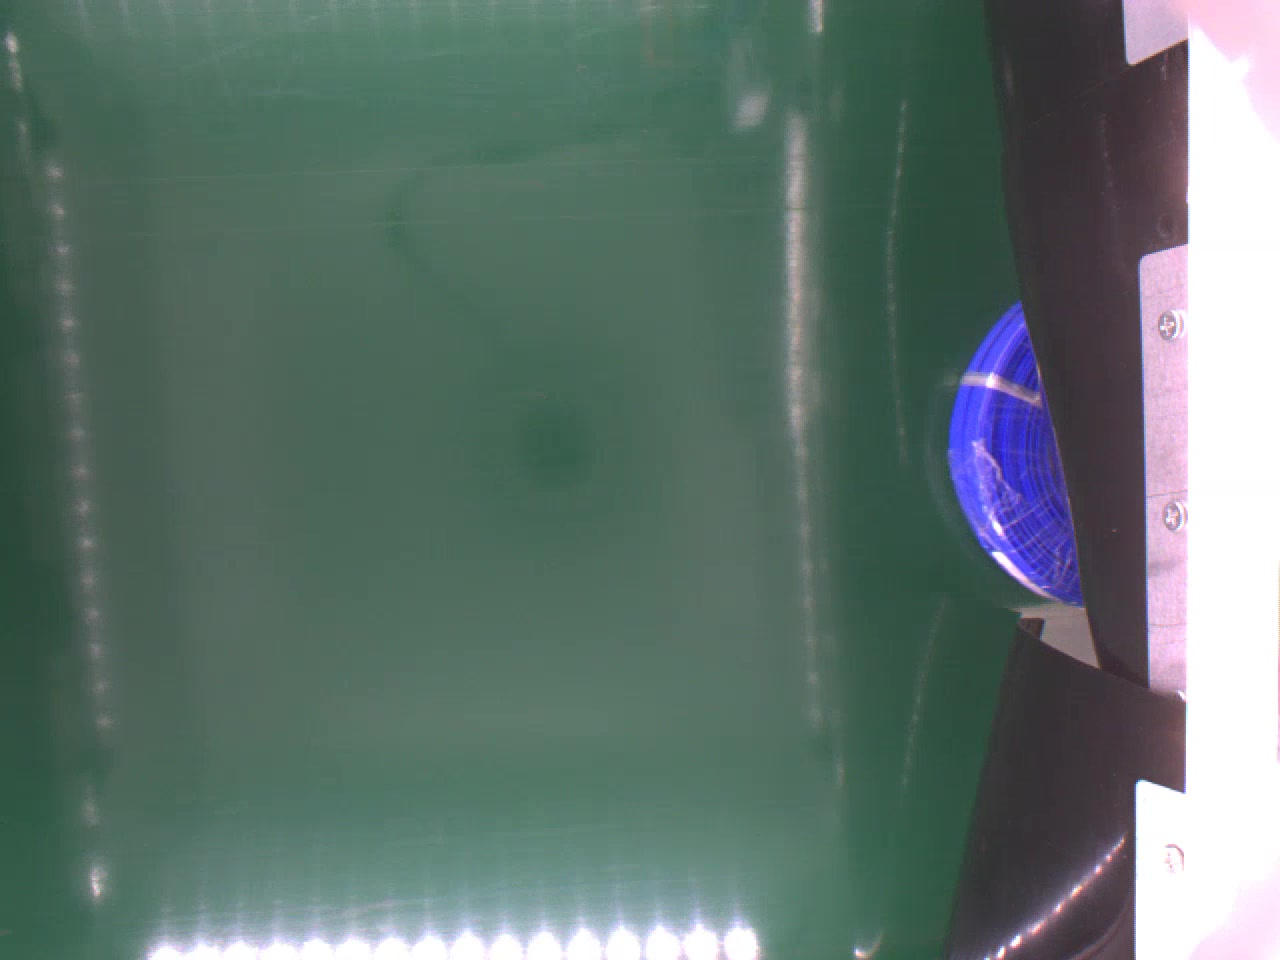blue: (947, 301, 1082, 608)
